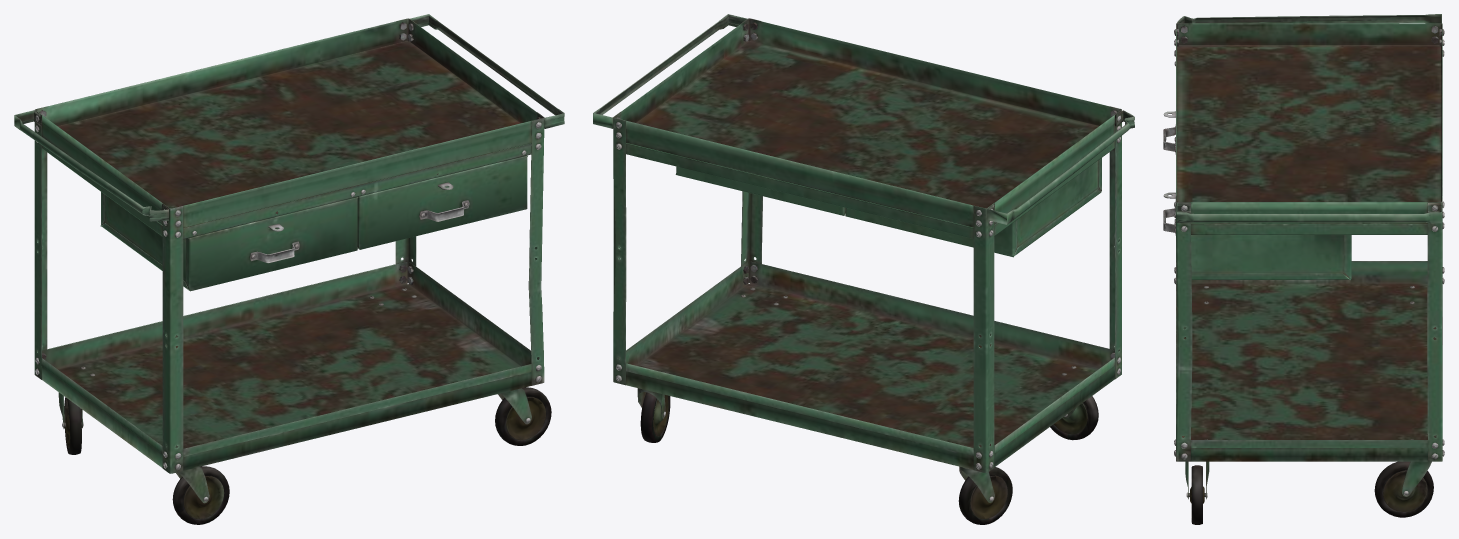
Rendered from tool_cart.glb.
The picture shows the model from 3 angles, left to right: view 1: azimuth 30°, elevation 25°; view 2: azimuth 150°, elevation 25°; view 3: azimuth 270°, elevation 25°; orthographic projection. The views are drawn at different scales.
Parts seen in each view (by area): view 1: tool_cart; view 2: tool_cart; view 3: tool_cart.
Part boxes in pixels (left/top/right/bottom): tool_cart: left=14, top=14, right=564, bottom=524; tool_cart: left=593, top=14, right=1134, bottom=524; tool_cart: left=1163, top=14, right=1444, bottom=524.
Bounding box in the file's own units: 1.27 × 0.9646 × 0.7537.
1 material, 1 textured.
